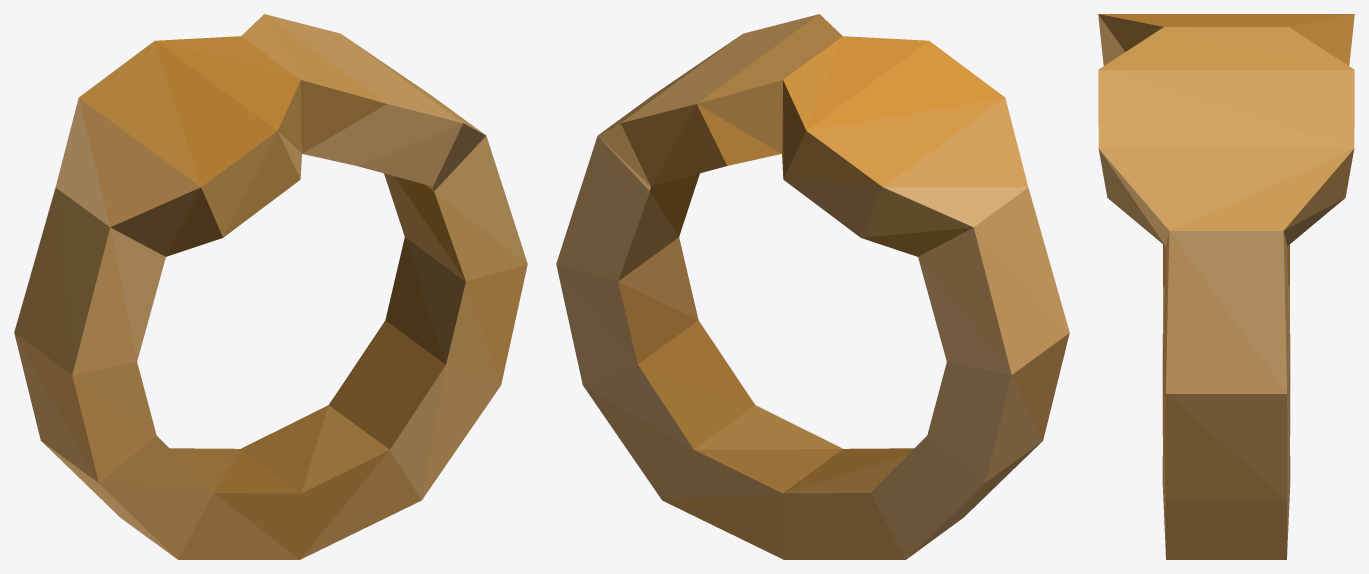
File: prop_treasure_ring_gold.fbx
The picture shows the model from 3 angles, left to right: view 1: azimuth 30°, elevation 25°; view 2: azimuth 150°, elevation 25°; view 3: azimuth 270°, elevation 25°; orthographic projection. The views are drawn at different scales.
Parts seen in each view (by area): view 1: prop_treasure_ring_gold; view 2: prop_treasure_ring_gold; view 3: prop_treasure_ring_gold.
Boxes of the visible parts, x1,y1,x2,y2 form: prop_treasure_ring_gold: [14, 14, 527, 559]; prop_treasure_ring_gold: [556, 14, 1069, 559]; prop_treasure_ring_gold: [1098, 14, 1354, 559].
Bounding box in the file's own units: 0.229 × 0.2308 × 0.107.
